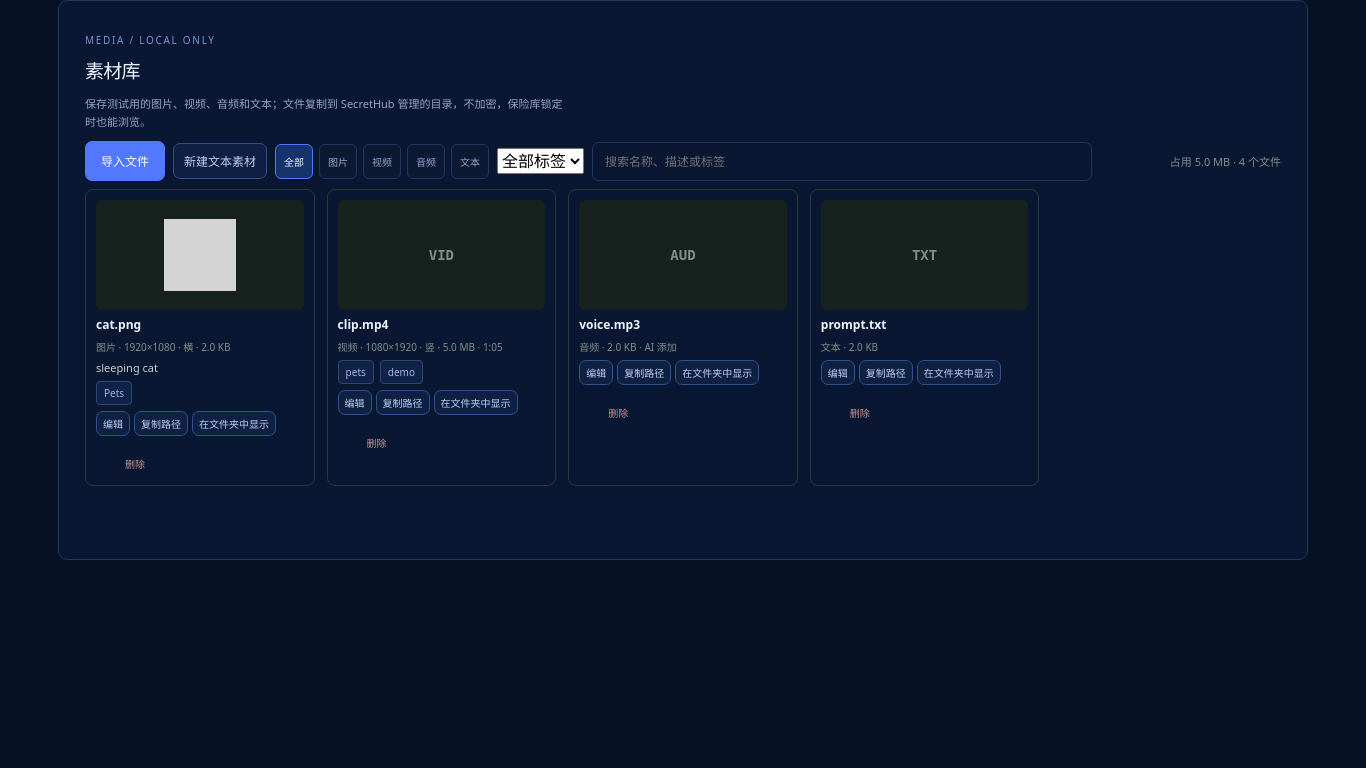
Test: MediaLibrary page › filters by type, tag and search
Expected: the element "clip.mp4" is shown, [327,189,556,486]
Click the button "视频" at (382, 161), box [363,144,401,179]
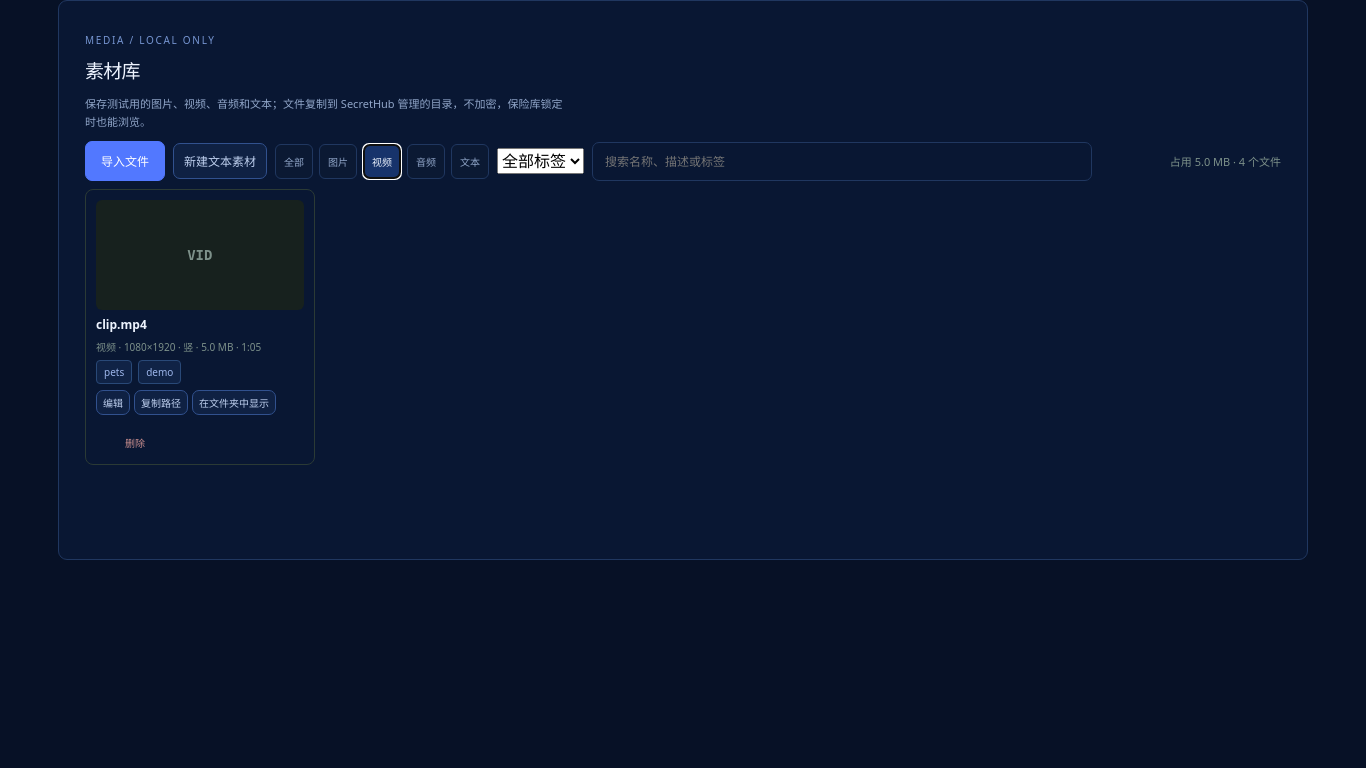
Click the button "全部" at (294, 161), box [275,144,313,179]
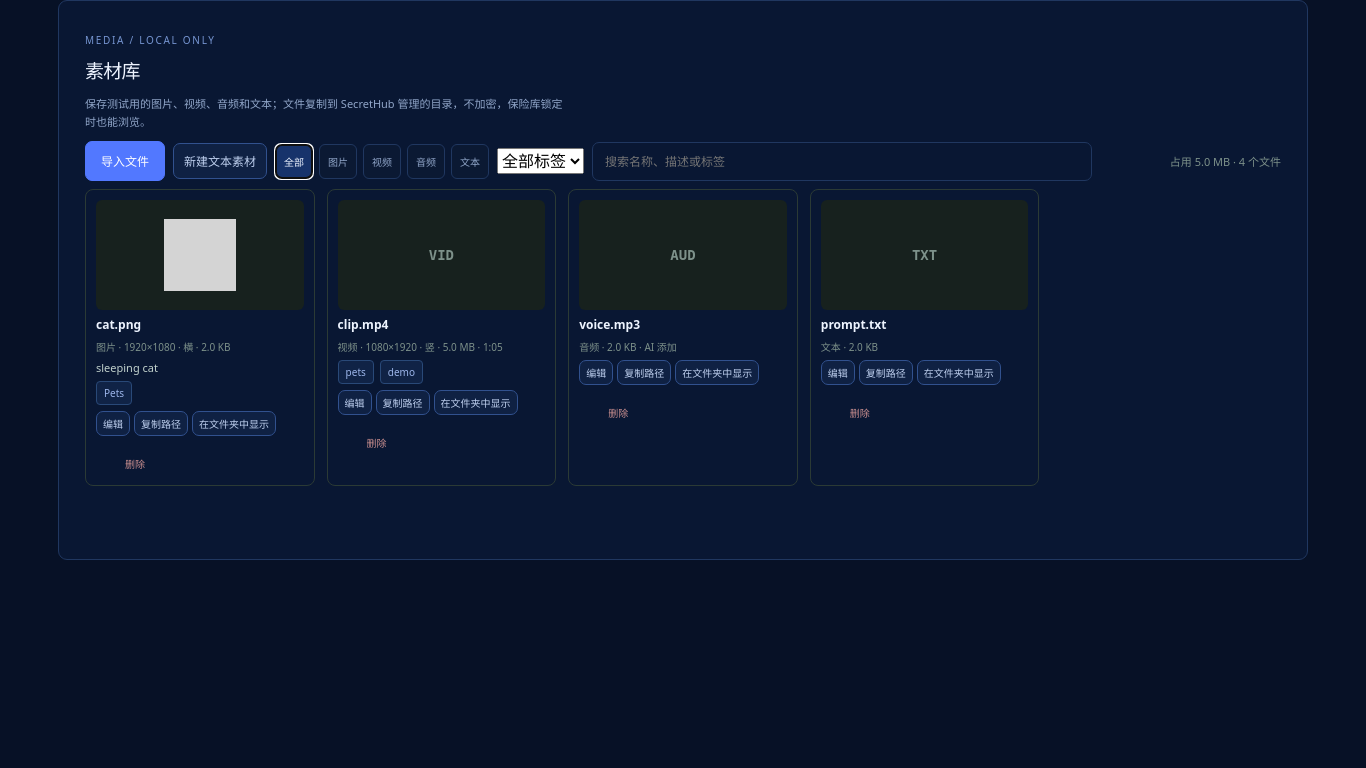
Select "Pets" in the dropdown named "按标签筛选" at (540, 161), box [497,148,584,174]
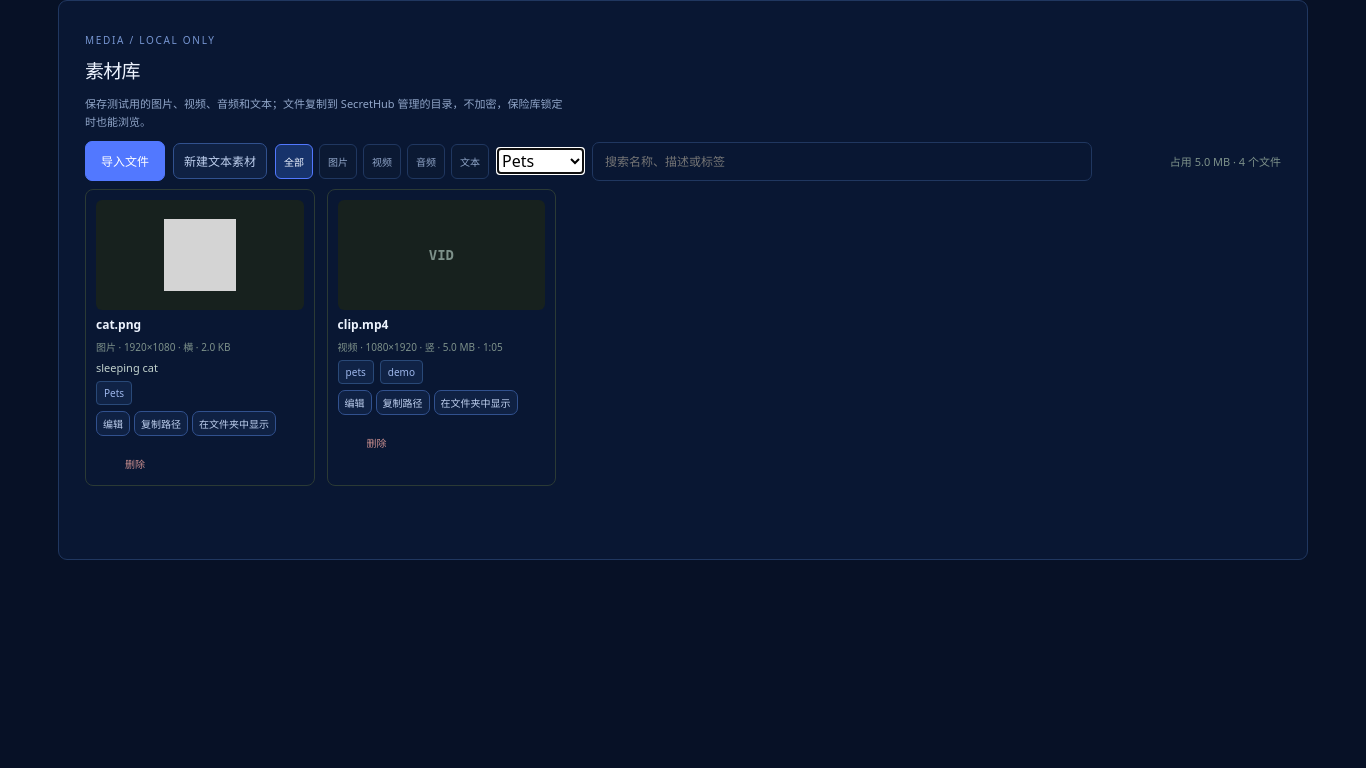
Type "sleeping" into the field labelled "搜索名称、描述或标签" at (842, 161), box [605,143,1079,180]
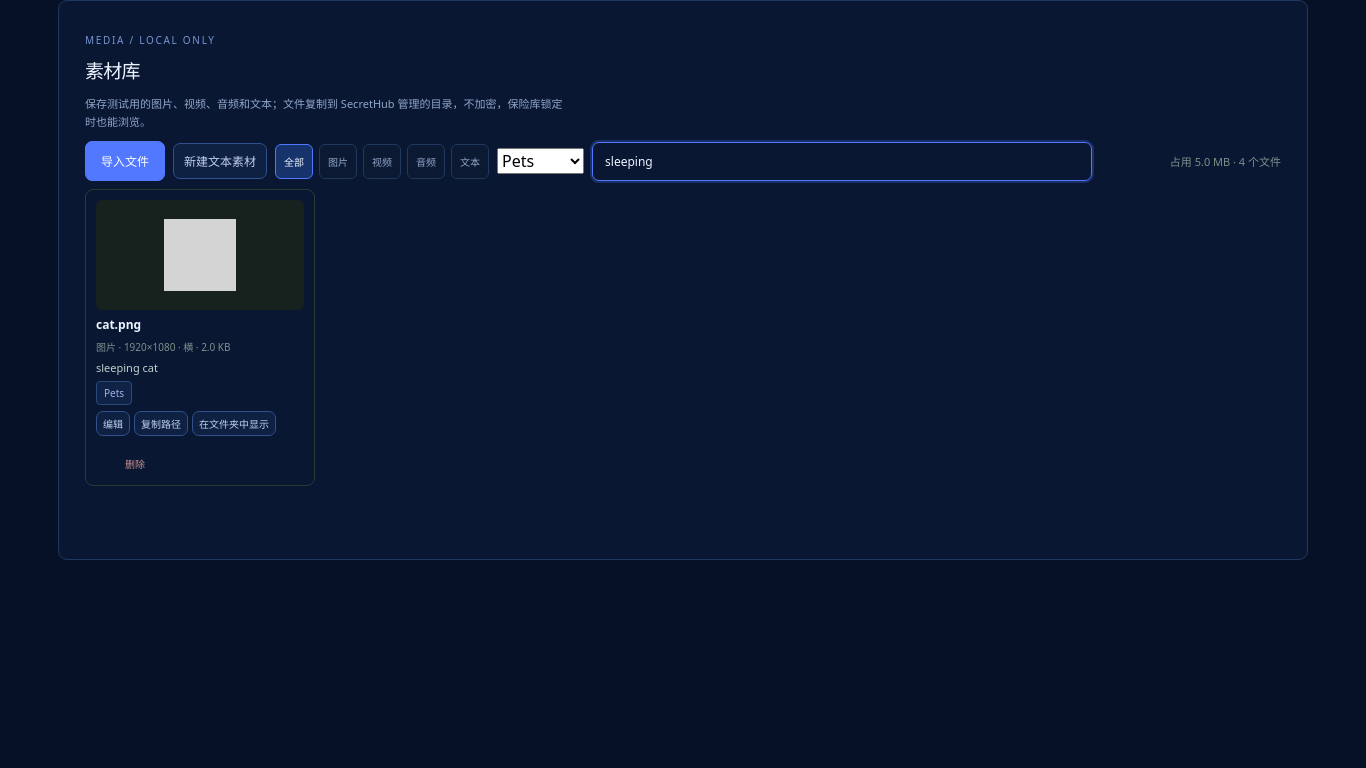
Replace the text in the field named "搜索名称、描述或标签" with "zzz-no-match" at (842, 161), box [605,143,1079,180]
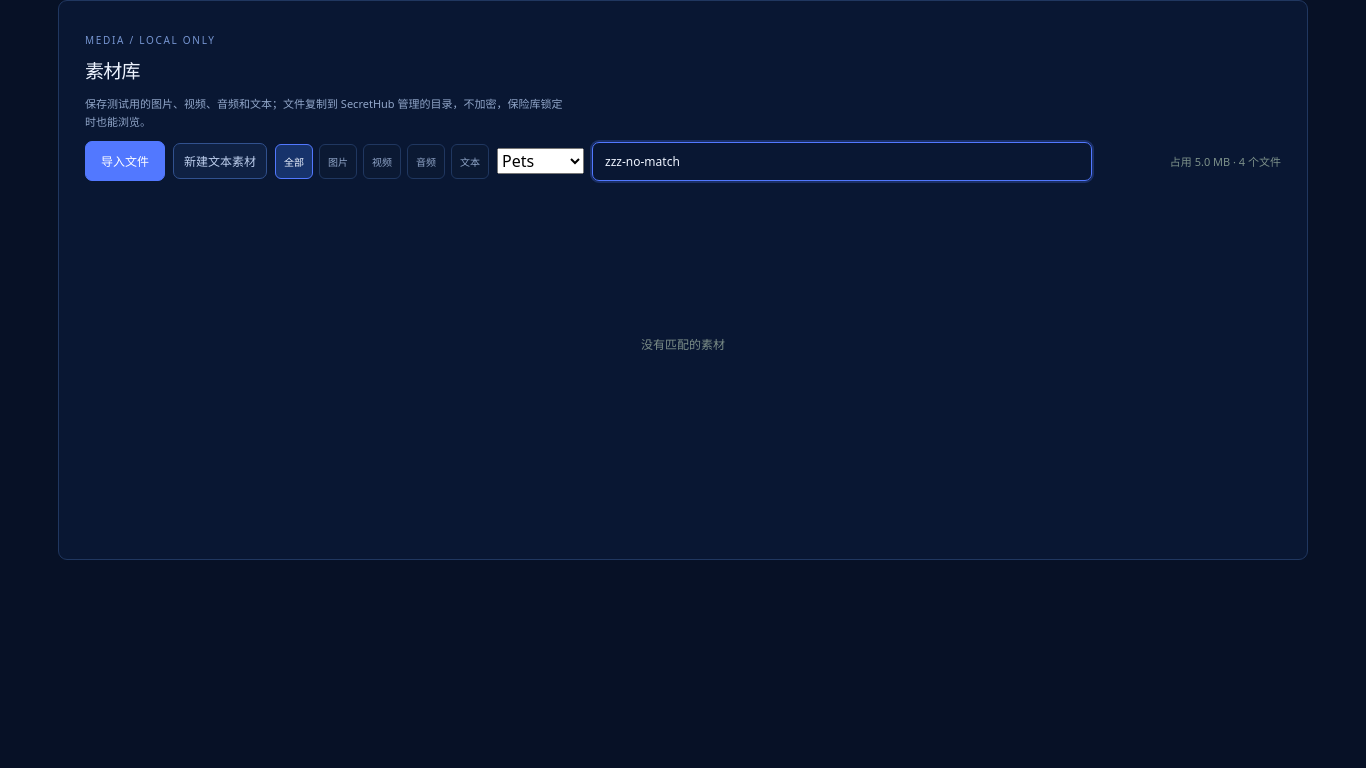
Expected: the text "没有匹配的素材" is shown, [641,335,725,353]
